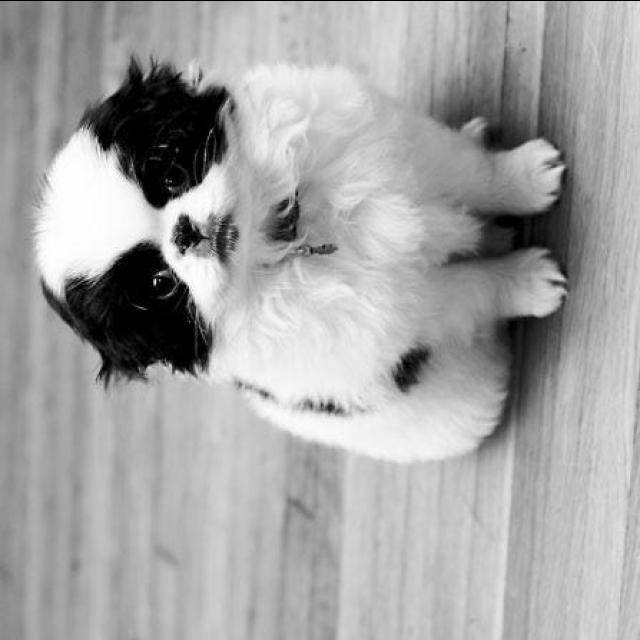husky: (28, 44, 566, 454)
